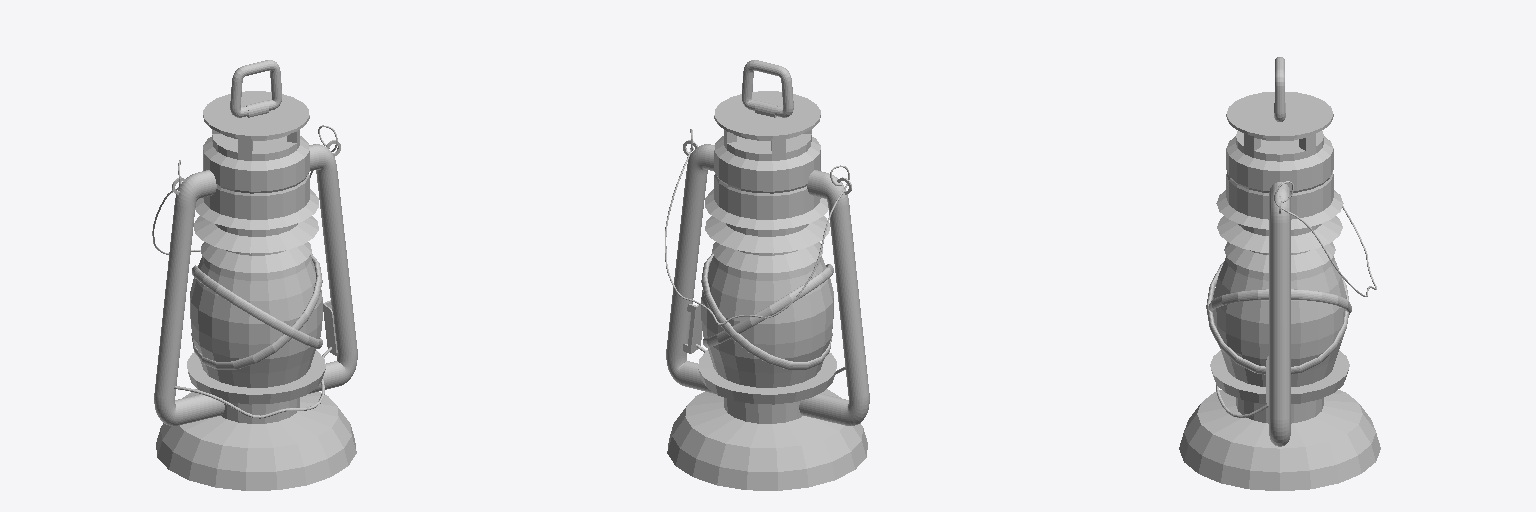
The model's file is Lantern.obj.
3 renders of one model, left to right at view 1: azimuth 30°, elevation 25°; view 2: azimuth 150°, elevation 25°; view 3: azimuth 270°, elevation 25°, orthographic.
Visible parts, largest first — view 1: Lantern Body1, Lantern Bulb, Top_Part Lantern; view 2: Lantern Body1, Lantern Bulb, Top_Part Lantern; view 3: Lantern Body1, Lantern Bulb, Top_Part Lantern.
Part boxes in pixels (x1,y1,x2,y2): Lantern Body1: (152, 60, 357, 490); Lantern Bulb: (190, 256, 322, 387); Top_Part Lantern: (203, 136, 309, 219); Lantern Body1: (665, 60, 869, 490); Lantern Bulb: (701, 256, 833, 387); Top_Part Lantern: (714, 136, 820, 219); Lantern Body1: (1179, 57, 1380, 490); Lantern Bulb: (1213, 256, 1346, 386); Top_Part Lantern: (1226, 136, 1333, 219).
Size of the model in its own units: 4.32 by 7.93 by 3.77.